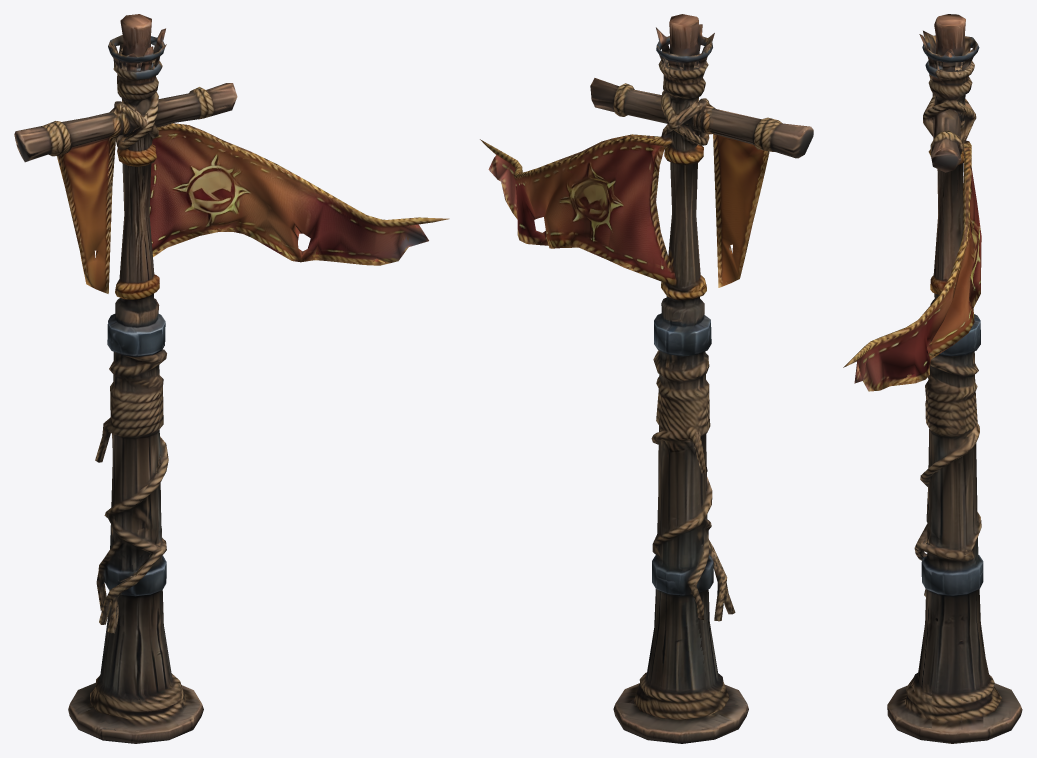
The model's file is DesertGateRed.fbx.
The picture shows the model from 3 angles, left to right: view 1: azimuth 30°, elevation 25°; view 2: azimuth 150°, elevation 25°; view 3: azimuth 270°, elevation 25°; orthographic projection.
Visible parts, largest first — view 1: mesh_node; view 2: mesh_node; view 3: mesh_node.
Boxes of the visible parts, box(x1,y1,x2,y2) form: mesh_node: box(14, 14, 449, 743); mesh_node: box(480, 14, 813, 743); mesh_node: box(843, 14, 1022, 743).
Size of the model in its own units: 1.14 by 1.98 by 0.4642.
